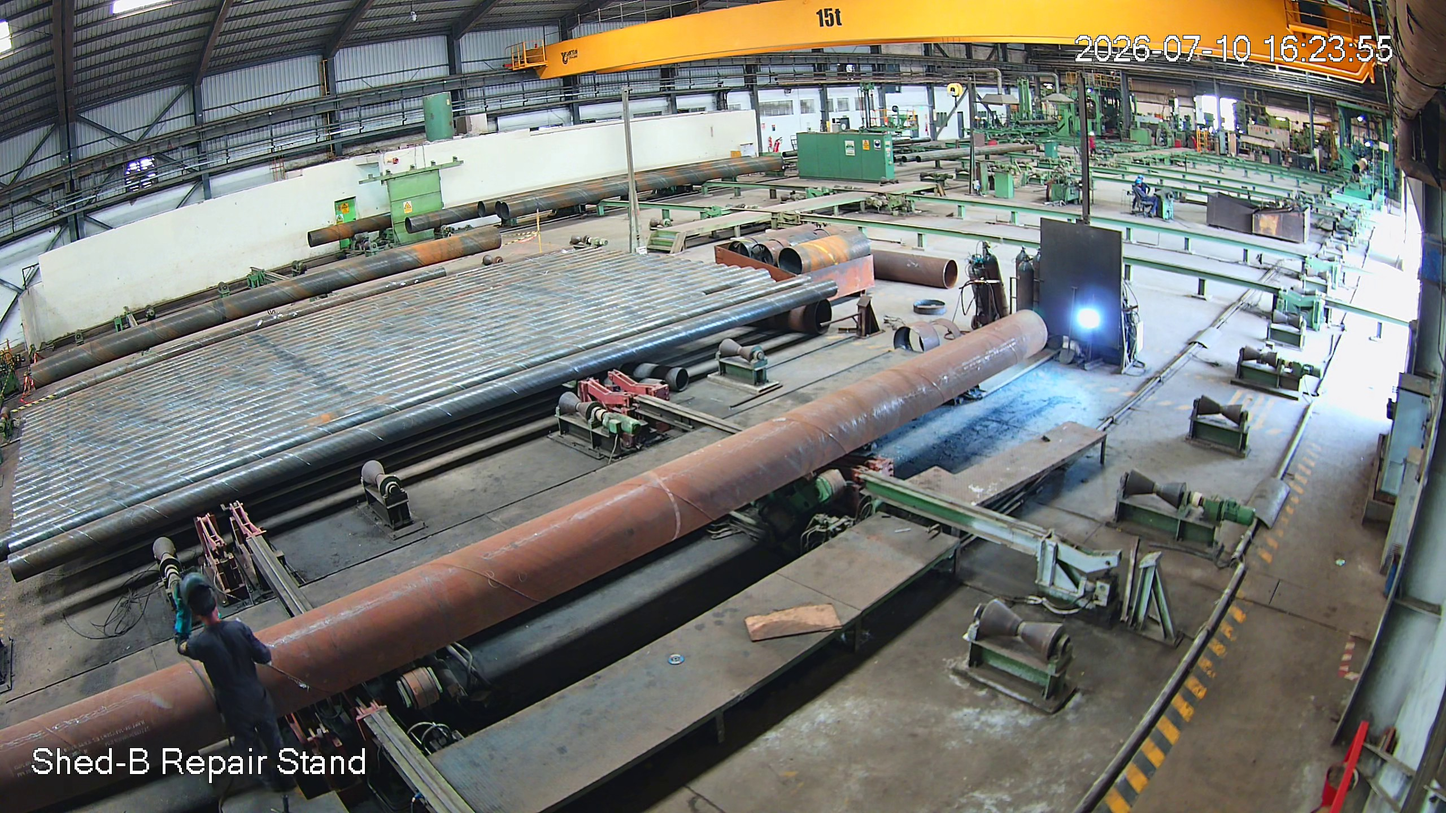Helmet: (175, 573, 237, 642)
Person: (170, 585, 299, 809)
